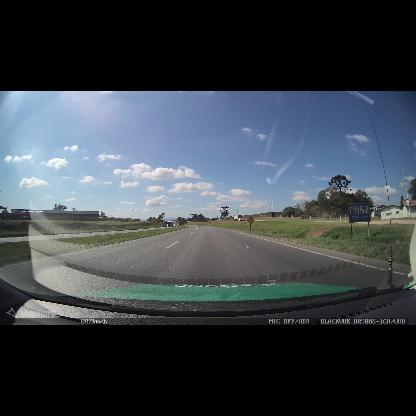I-SA: (348, 203, 371, 223)
